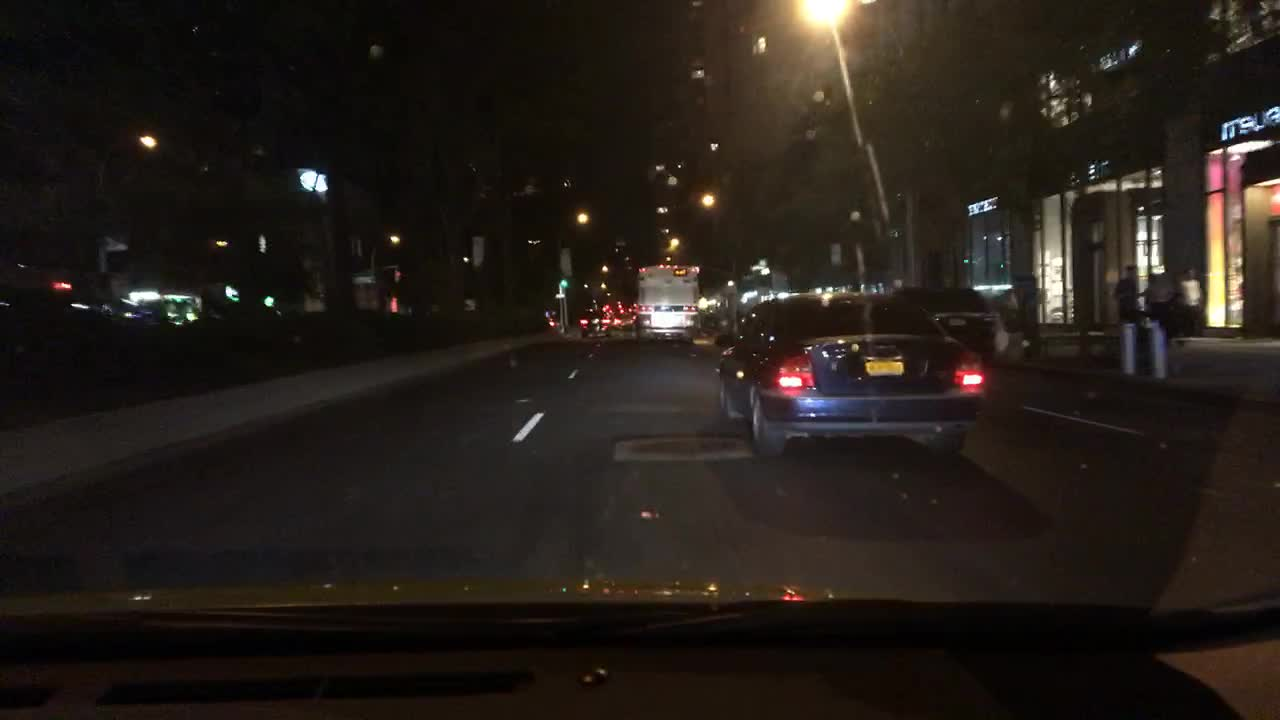bus: (634, 263, 700, 347)
car: (714, 289, 985, 460), (889, 283, 996, 361), (578, 308, 610, 336), (164, 303, 199, 322), (612, 314, 632, 329), (705, 307, 722, 321), (543, 317, 558, 329)
person: (1112, 263, 1142, 380), (1145, 271, 1174, 385), (1176, 264, 1206, 336)
traffic light: (54, 281, 72, 292), (559, 276, 567, 288)
traffic sign: (469, 235, 485, 269), (110, 274, 131, 297), (557, 246, 572, 274), (353, 274, 375, 286), (553, 292, 565, 298)
